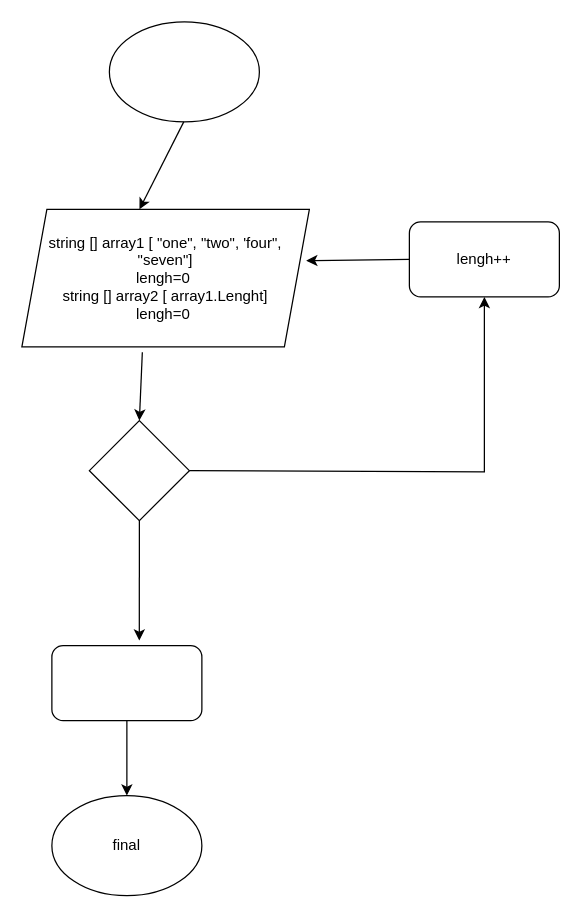
The diagram is 581 pixels wide and 918 high, and some of its shapes have lost their labels. Each missing label, with the centre of its shape:
lengh <=3: the point at 138,470
start: the point at 183,71
